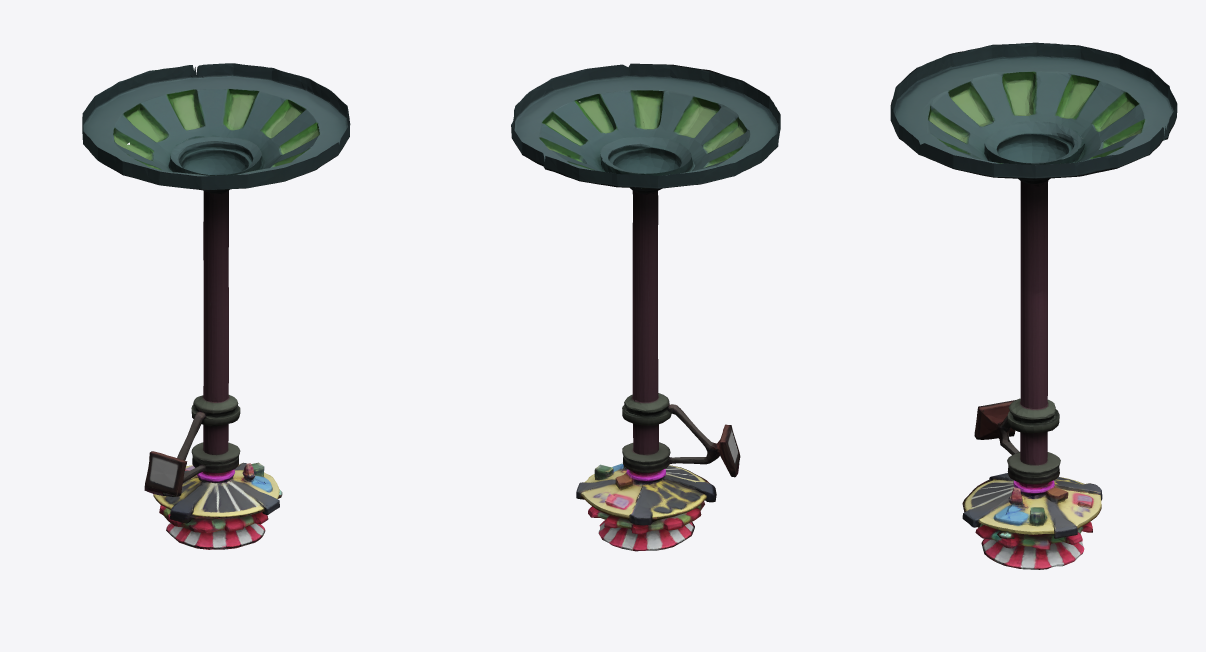
The model's file is source.glb.
3 views of the same model, side by side, from view 1: azimuth 30°, elevation 25°; view 2: azimuth 150°, elevation 25°; view 3: azimuth 270°, elevation 25° (orthographic). The views are drawn at different scales.
Parts seen in each view (by area): view 1: world; view 2: world; view 3: world.
Part boxes in pixels (x1,y1,x2,y2): world: (82, 63, 350, 549); world: (511, 63, 780, 551); world: (890, 42, 1177, 569).
Size of the model in its own units: 0.649 by 1.1 by 0.6425.
2 materials, 1 textured.
